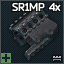SR-1MP quad rail mount: (0, 0, 64, 64)
